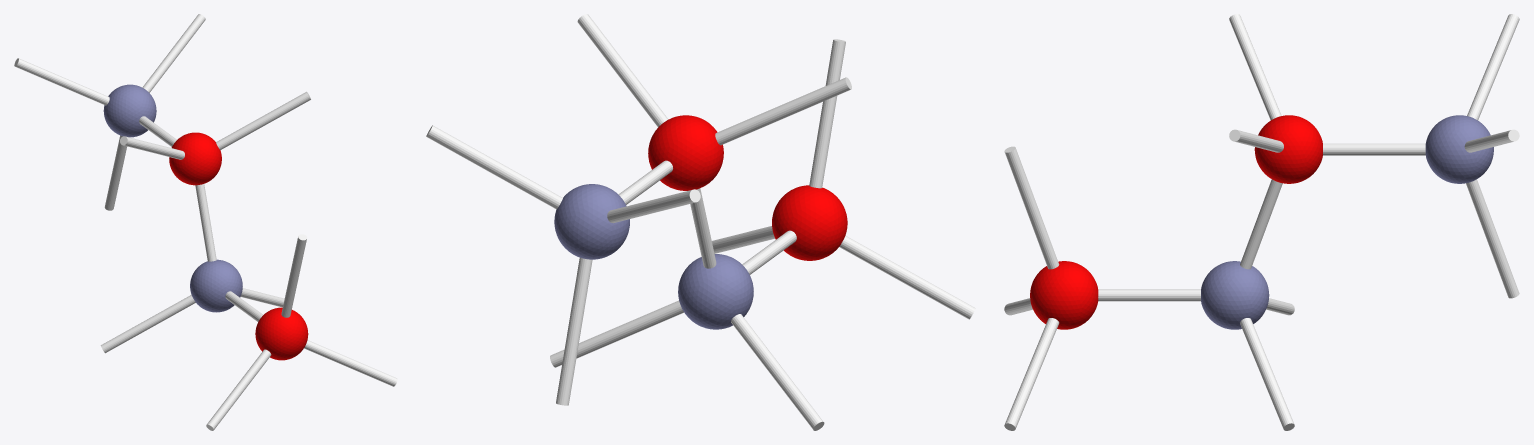
The model's file is structure_mpstyle.glb.
The picture shows the model from 3 angles, left to right: view 1: azimuth 30°, elevation 25°; view 2: azimuth 150°, elevation 25°; view 3: azimuth 270°, elevation 25°; orthographic projection. The views are drawn at different scales.
Visible parts, largest first — view 1: world; view 2: world; view 3: world.
Boxes of the visible parts, box(x1,y1,x2,y2) form: world: box(14, 14, 397, 430); world: box(426, 14, 975, 430); world: box(1004, 14, 1519, 430).
Bounding box in the file's own units: 3.32 × 3.86 × 5.99.
